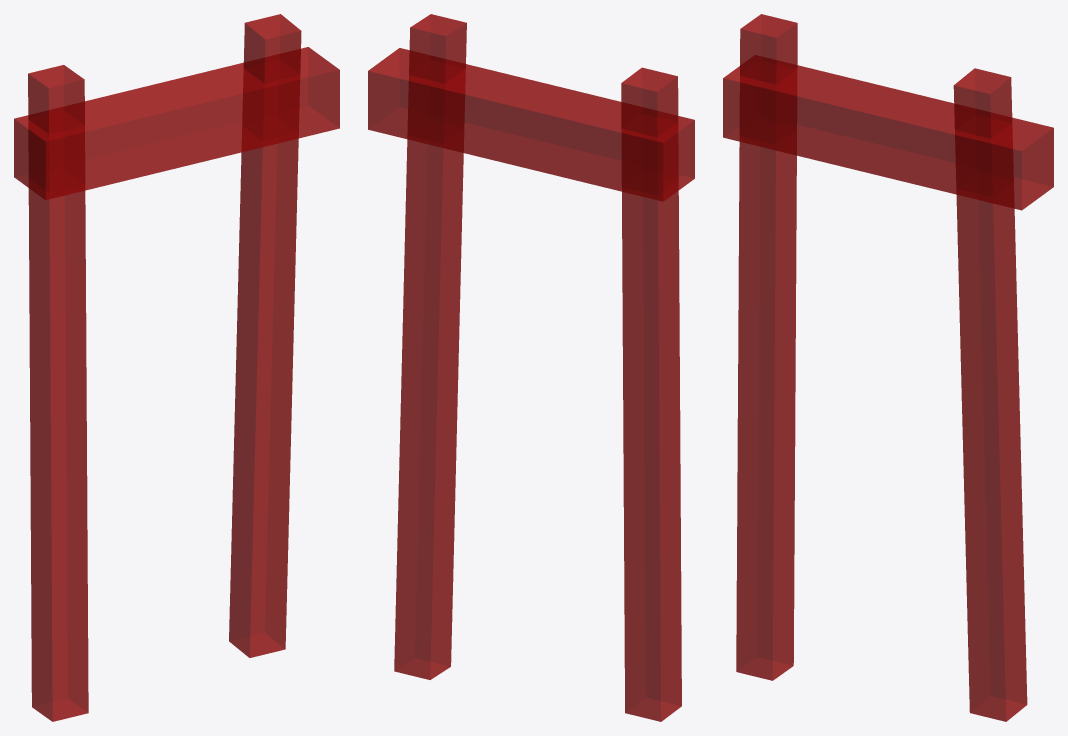
File: SM_Prop_Jetty_Support_01_Collision.fbx
3 views of the same model, side by side, from view 1: azimuth 30°, elevation 25°; view 2: azimuth 150°, elevation 25°; view 3: azimuth 330°, elevation 25° (orthographic).
Visible parts, largest first — view 1: SM_Prop_Jetty_Support_01_Collision; view 2: SM_Prop_Jetty_Support_01_Collision; view 3: SM_Prop_Jetty_Support_01_Collision.
Part boxes in pixels (x1,y1,x2,y2): SM_Prop_Jetty_Support_01_Collision: (14,14,339,721); SM_Prop_Jetty_Support_01_Collision: (368,14,694,721); SM_Prop_Jetty_Support_01_Collision: (723,14,1053,721).
Size of the model in its own units: 125 by 257 by 29.66.
